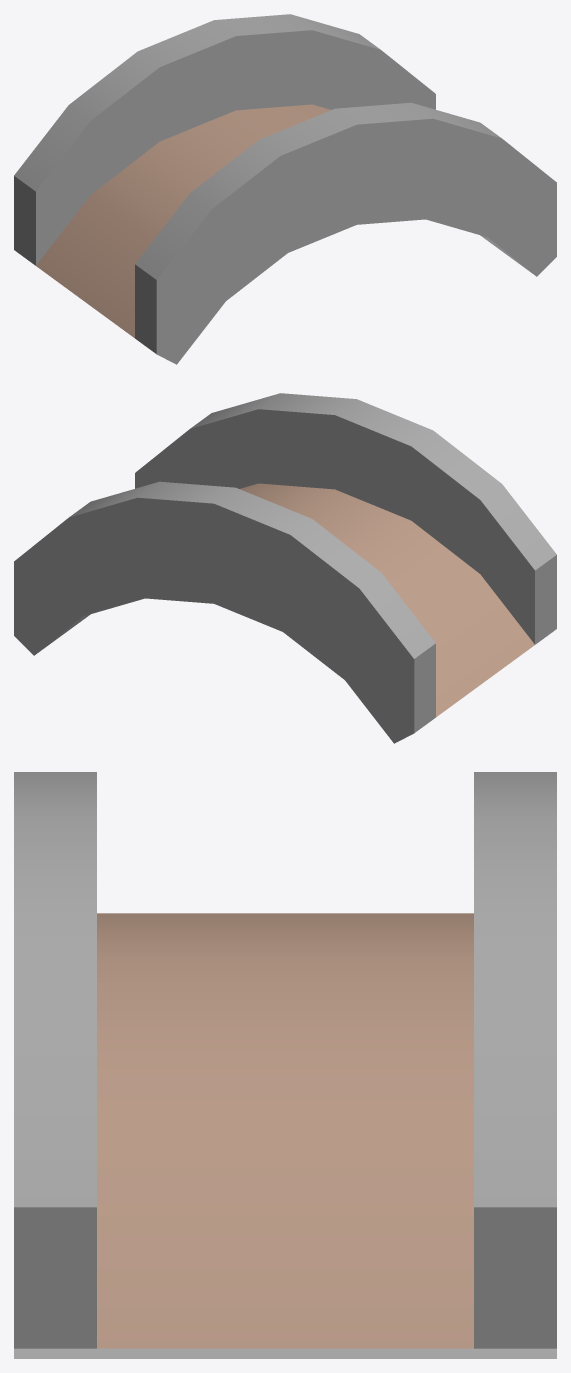
Rendered from Bridge05.fbx.
The picture shows the model from 3 angles, top to bottom: view 1: azimuth 30°, elevation 25°; view 2: azimuth 150°, elevation 25°; view 3: azimuth 270°, elevation 25°; orthographic projection. The views are drawn at different scales.
Parts seen in each view (by area): view 1: Bridge_Small; view 2: Bridge_Small; view 3: Bridge_Small.
Part boxes in pixels (bbox=[...]): Bridge_Small: bbox=[14, 14, 556, 364]; Bridge_Small: bbox=[14, 393, 556, 743]; Bridge_Small: bbox=[14, 772, 556, 1358].
Size of the model in its own units: 0.4723 by 0.2213 by 0.2919.
